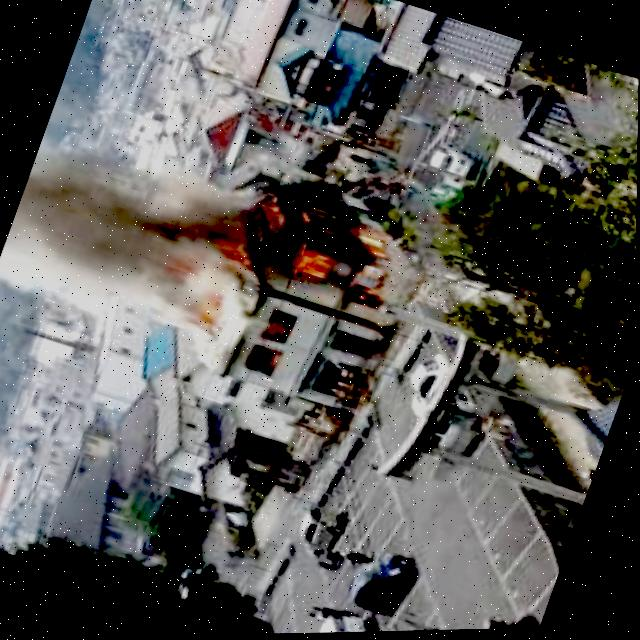Fire: (230, 173, 422, 321), (245, 299, 306, 378)
Smoke: (0, 137, 280, 351)
